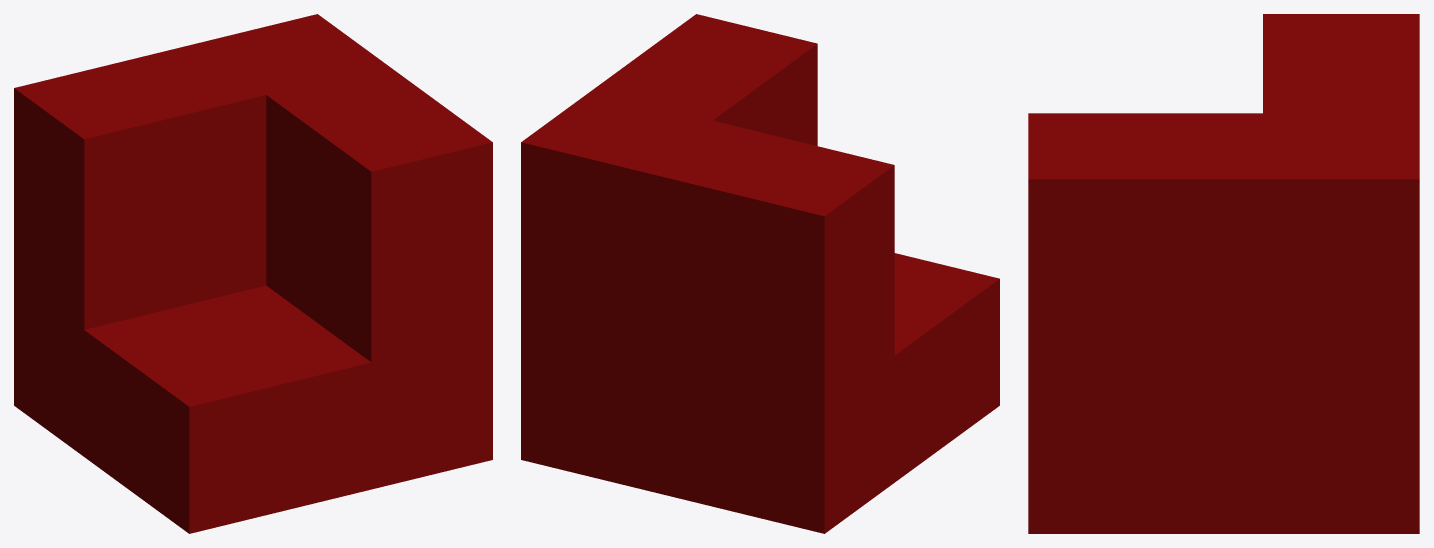
Rendered from corner2.obj.
The picture shows the model from 3 angles, left to right: view 1: azimuth 30°, elevation 25°; view 2: azimuth 150°, elevation 25°; view 3: azimuth 270°, elevation 25°; orthographic projection. The views are drawn at different scales.
Visible parts, largest first — view 1: corner2; view 2: corner2; view 3: corner2.
Part boxes in pixels (x1,y1,x2,y2): corner2: (14,14,492,533); corner2: (521,14,999,533); corner2: (1028,14,1419,533).
Size of the model in its own units: 5 by 5 by 5.
Materials: 1 (1 with a texture image).
